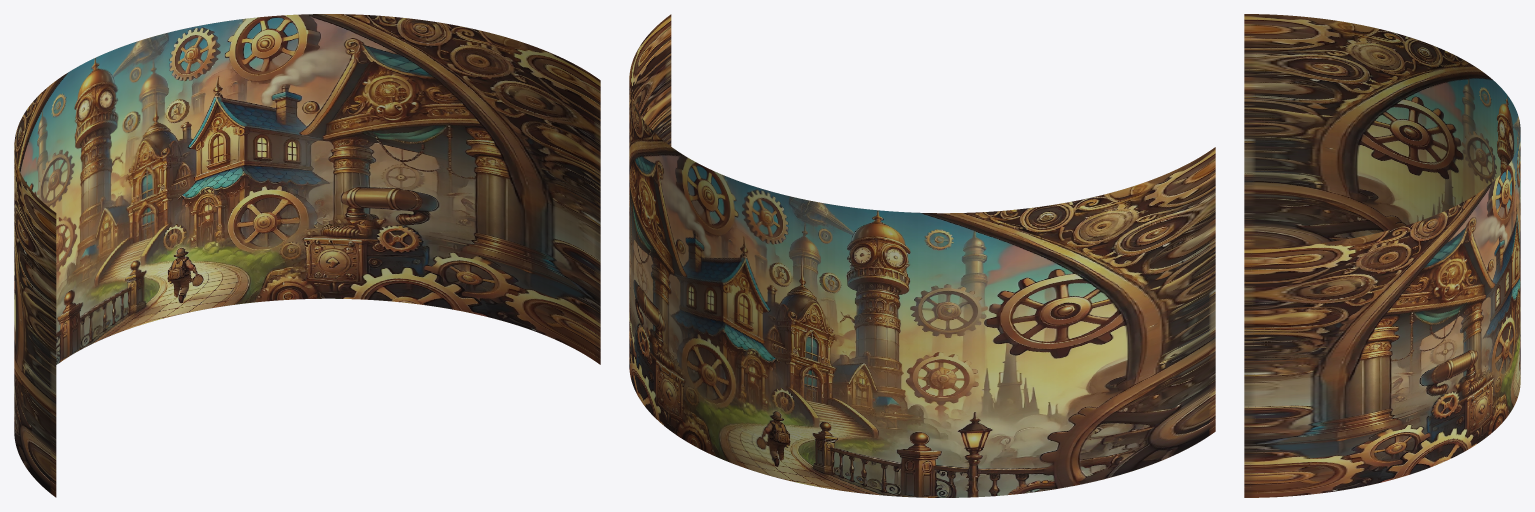
Rendered from Background_fbx_common_textured.fbx.
The picture shows the model from 3 angles, left to right: view 1: azimuth 30°, elevation 25°; view 2: azimuth 150°, elevation 25°; view 3: azimuth 270°, elevation 25°; orthographic projection. The views are drawn at different scales.
Visible parts, largest first — view 1: Obj; view 2: Obj; view 3: Obj.
Part boxes in pixels (x1,y1,x2,y2): Obj: (14, 14, 600, 497); Obj: (629, 14, 1215, 497); Obj: (1244, 14, 1520, 497).
Size of the model in its own units: 200 by 100 by 100.
Materials: 1 (1 with a texture image).
